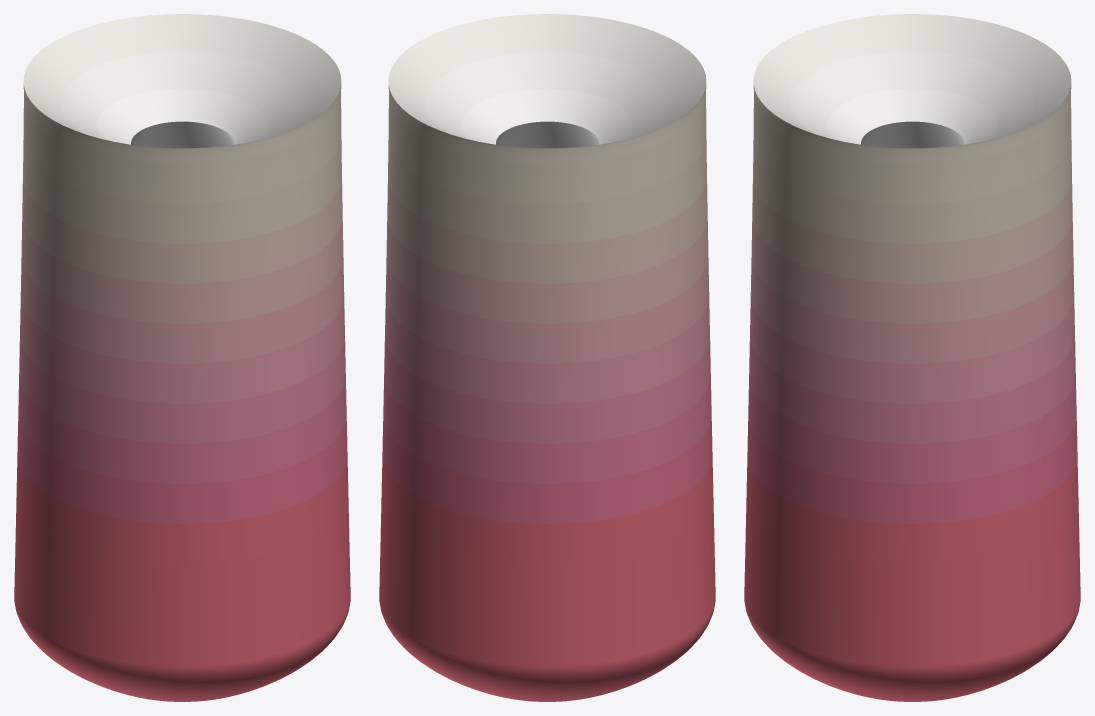
File: DP_cup.gltf
The picture shows the model from 3 angles, left to right: view 1: azimuth 30°, elevation 25°; view 2: azimuth 150°, elevation 25°; view 3: azimuth 270°, elevation 25°; orthographic projection.
Size of the model in its own units: 0.0732 by 0.1404 by 0.0733.
1 material, 1 textured.
